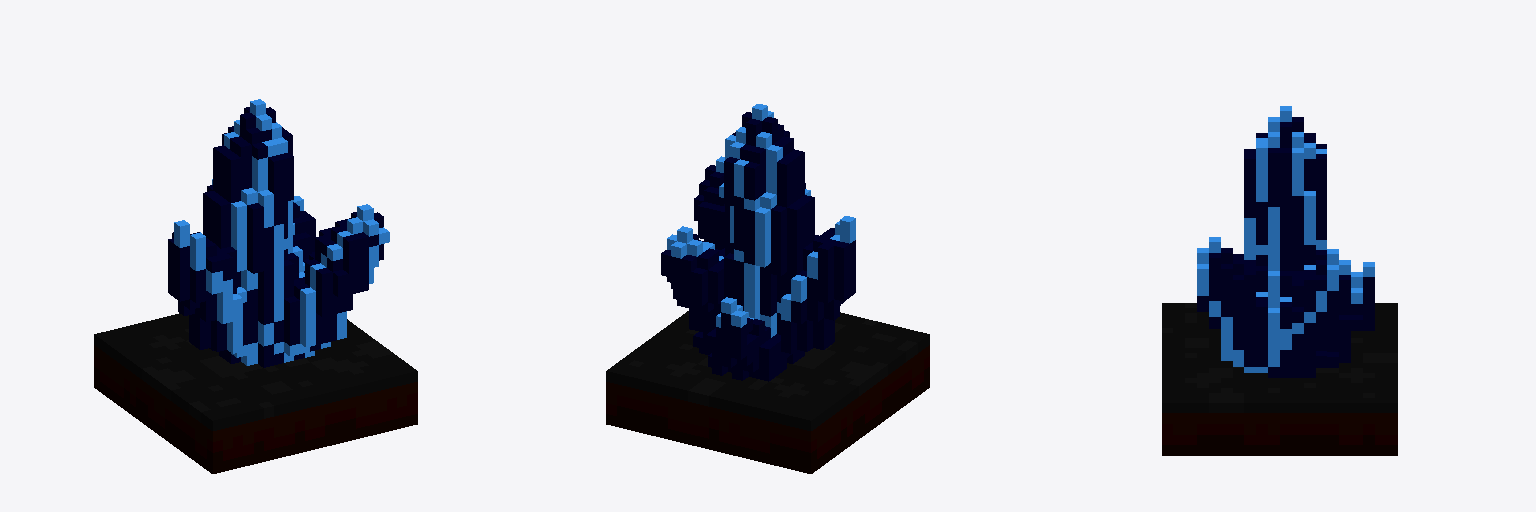
File: sapphire.obj
3 views of the same model, side by side, from view 1: azimuth 30°, elevation 25°; view 2: azimuth 150°, elevation 25°; view 3: azimuth 270°, elevation 25° (orthographic).
Parts seen in each view (by area): view 1: sapphire; view 2: sapphire; view 3: sapphire.
Boxes of the visible parts, x1=… form: sapphire: x1=94, y1=99, x2=417, y2=473; sapphire: x1=606, y1=104, x2=929, y2=473; sapphire: x1=1162, y1=106, x2=1397, y2=455.
Size of the model in its own units: 1 by 1.4 by 1.